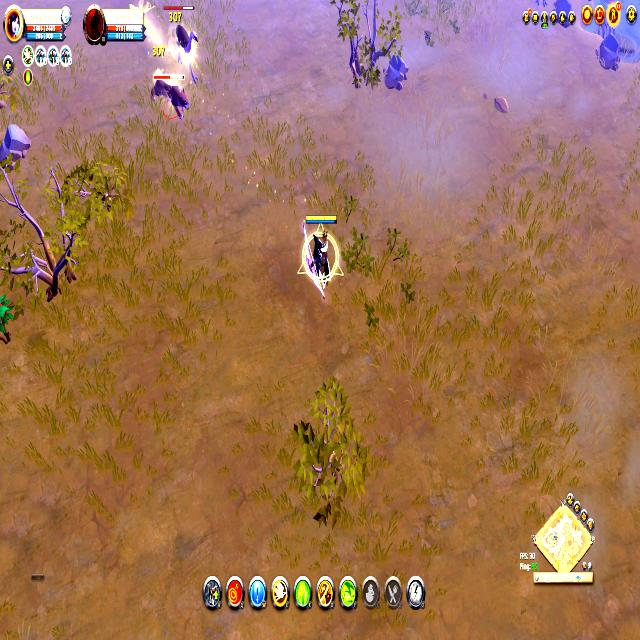hide: (0, 289, 13, 343)
ore: (163, 3, 201, 84), (149, 70, 190, 126)
red: (301, 210, 339, 291)
